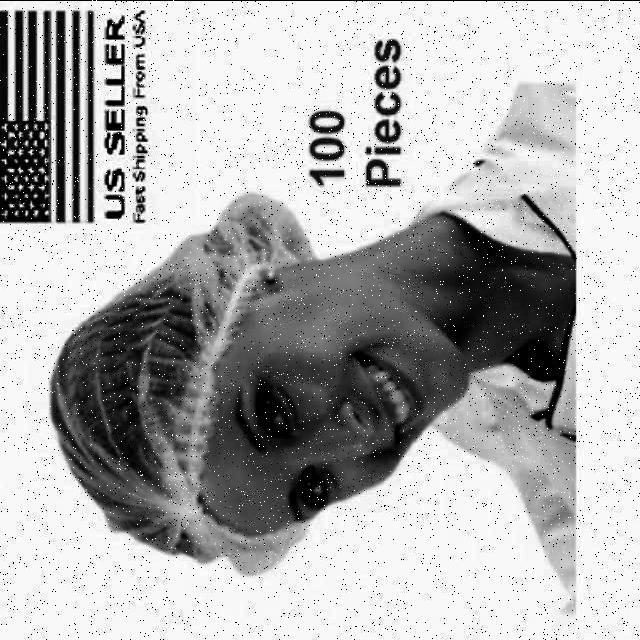no_hairnet: (322, 362, 419, 472)
